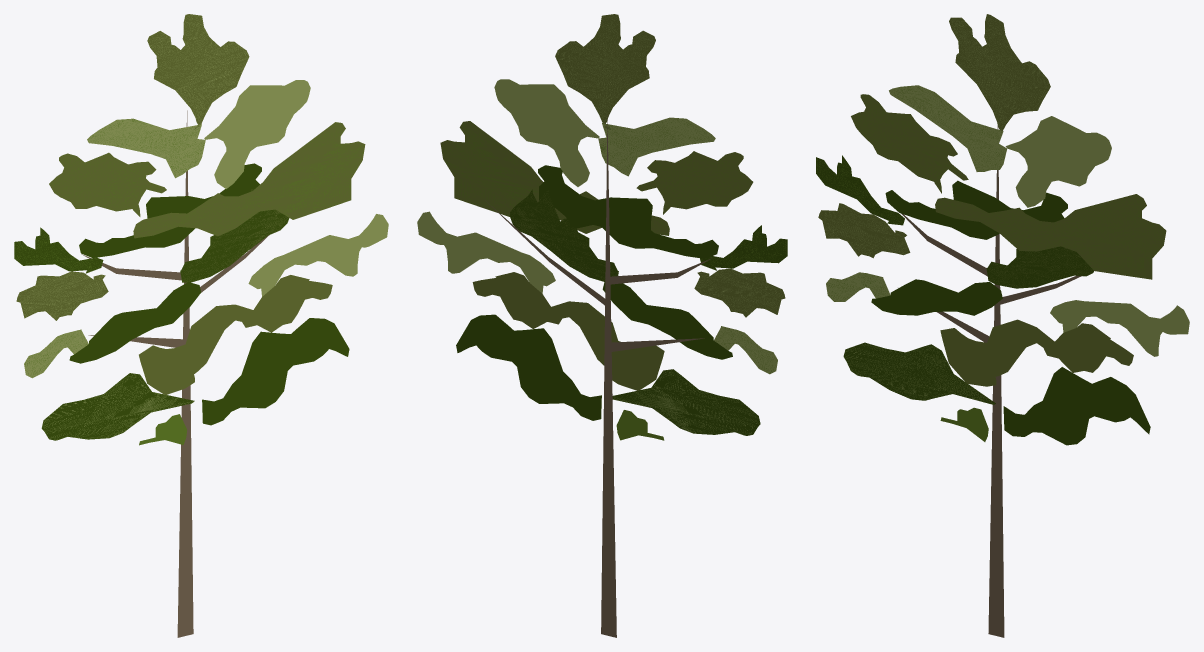
The model's file is autumn-tree.dae.
3 views of the same model, side by side, from view 1: azimuth 30°, elevation 25°; view 2: azimuth 150°, elevation 25°; view 3: azimuth 330°, elevation 25° (orthographic).
Parts seen in each view (by area): view 1: SketchUp (×17); view 2: SketchUp (×17); view 3: SketchUp (×17).
Part boxes in pixels (x1=…): SketchUp (×17): x1=14, y1=14, x2=388, y2=637; SketchUp (×17): x1=417, y1=14, x2=787, y2=637; SketchUp (×17): x1=816, y1=14, x2=1189, y2=637.
Bounding box in the file's own units: 92.34 × 2 × 147.
